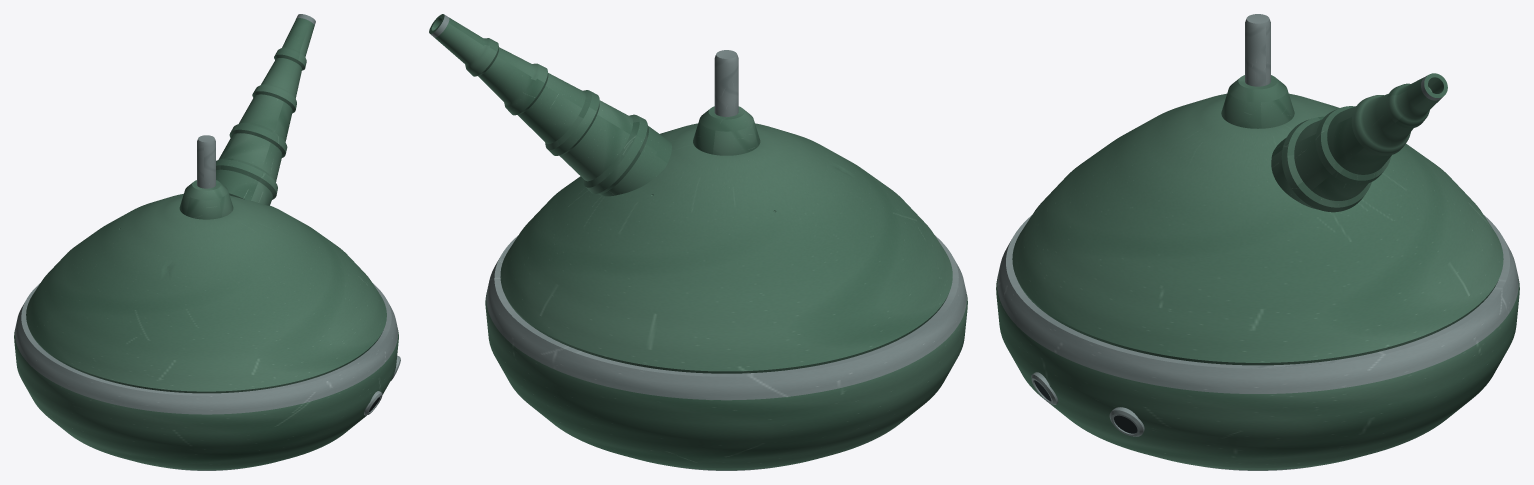
The picture shows the model from 3 angles, left to right: view 1: azimuth 30°, elevation 25°; view 2: azimuth 150°, elevation 25°; view 3: azimuth 270°, elevation 25°; orthographic projection. The views are drawn at different scales.
Visible parts, largest first — view 1: Star Bars rotating green head, Star Bars fixed rounded bowl, Star Bars tapered collared emitter with blind bore, Star Bars short stem green collar, Star Bars narrow pale vertical stem; view 2: Star Bars rotating green head, Star Bars fixed rounded bowl, Star Bars tapered collared emitter with blind bore, Star Bars short stem green collar, Star Bars narrow pale vertical stem; view 3: Star Bars rotating green head, Star Bars fixed rounded bowl, Star Bars tapered collared emitter with blind bore, Star Bars short stem green collar, Star Bars narrow pale vertical stem.
Boxes of the visible parts, x1,y1,x2,y2 form: Star Bars rotating green head: (26, 193, 386, 393); Star Bars fixed rounded bowl: (14, 283, 398, 470); Star Bars tapered collared emitter with blind bore: (216, 14, 315, 205); Star Bars short stem green collar: (179, 180, 233, 219); Star Bars narrow pale vertical stem: (197, 135, 215, 188); Star Bars rotating green head: (500, 123, 952, 373); Star Bars fixed rounded bowl: (485, 235, 967, 470); Star Bars tapered collared emitter with blind bore: (429, 14, 671, 196); Star Bars short stem green collar: (693, 106, 760, 155); Star Bars narrow pale vertical stem: (714, 50, 738, 116); Star Bars rotating green head: (1012, 93, 1503, 365); Star Bars fixed rounded bowl: (996, 215, 1519, 470); Star Bars tapered collared emitter with blind bore: (1271, 73, 1447, 212); Star Bars short stem green collar: (1221, 75, 1294, 128); Star Bars narrow pale vertical stem: (1245, 14, 1270, 86).
Size of the model in its own units: 1.63 by 1.49 by 1.6.
3 materials, 2 textured.
